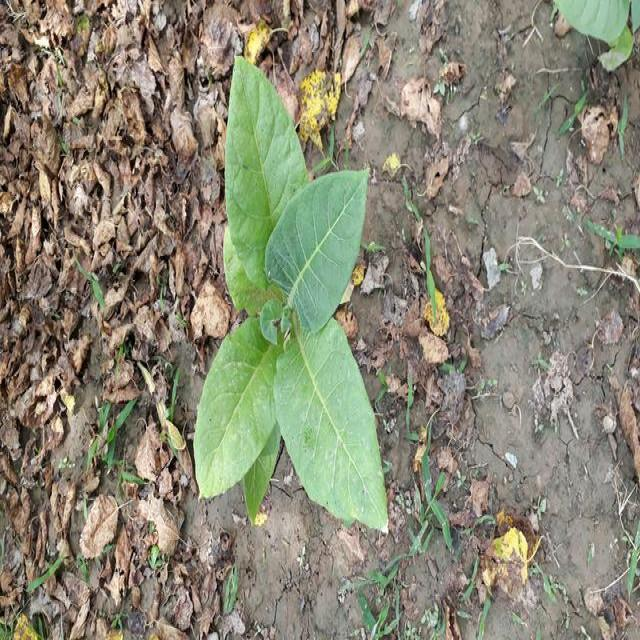crop: (195, 60, 404, 535)
